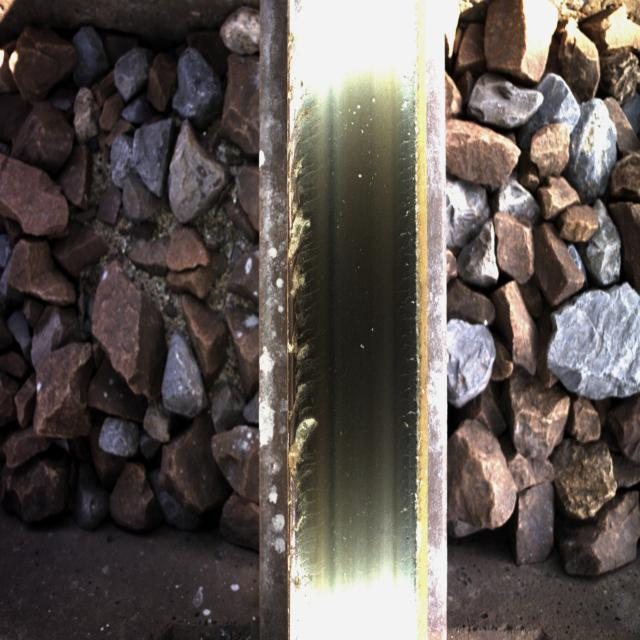crack: (278, 38, 358, 578)
